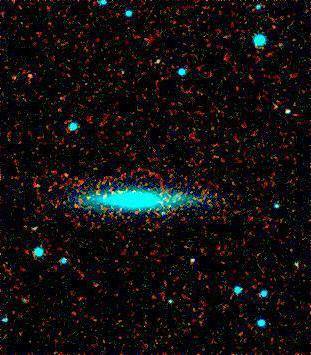star: (14, 60, 44, 90)
